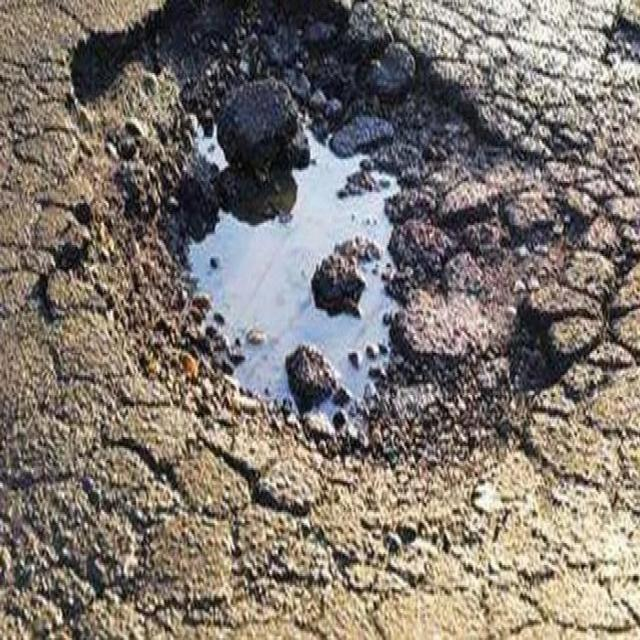Pothole: (35, 0, 640, 523)
